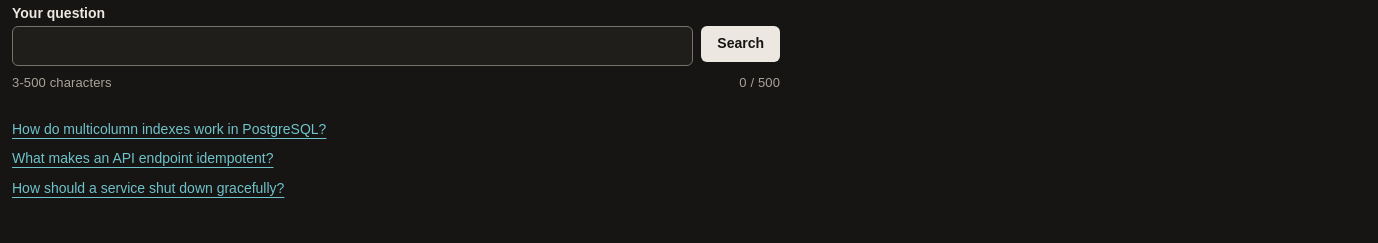
limits and off › 503 search_off shows the server text and disables the field and button
The image size is (1378, 243).
In the search field labelled "Your question": [353, 46] box [12, 26, 693, 66], type "a question"
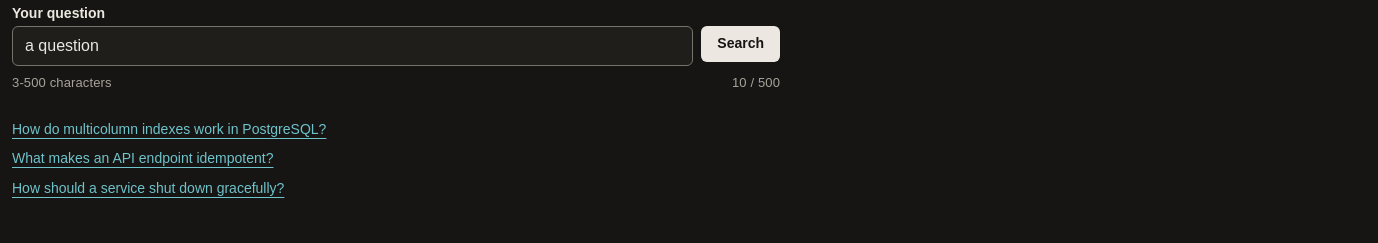
Click the button "Search": [741, 44] box [701, 26, 780, 62]
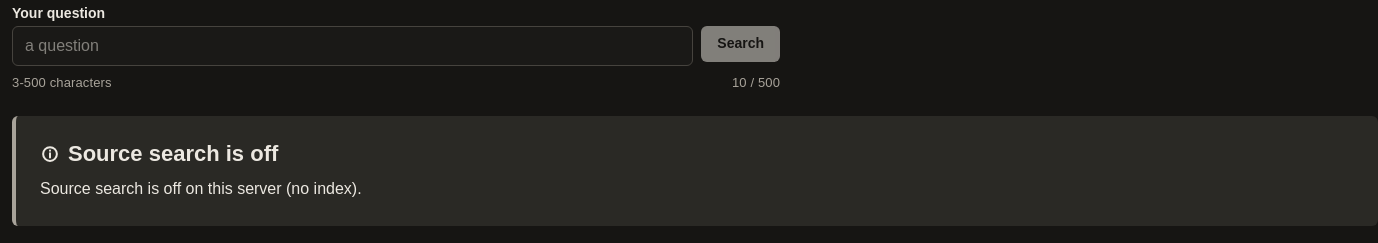
Now the text "Source search is off on this server (no index)." is shown, box [40, 180, 362, 197]
Now the search field labelled "Your question" is disabled, box [12, 26, 693, 66]
Now the button "Search" is disabled, box [701, 26, 780, 62]
